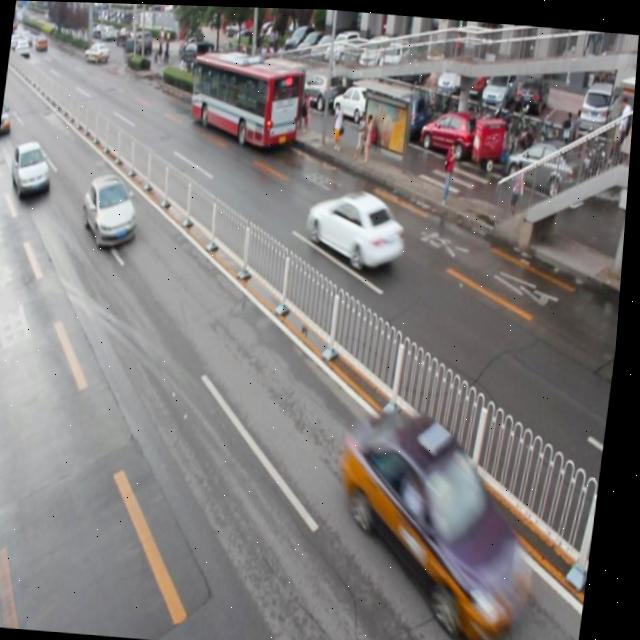car: (332, 409, 550, 640), (306, 183, 413, 269), (82, 169, 146, 250), (11, 139, 58, 200)
van: (187, 50, 305, 148)
